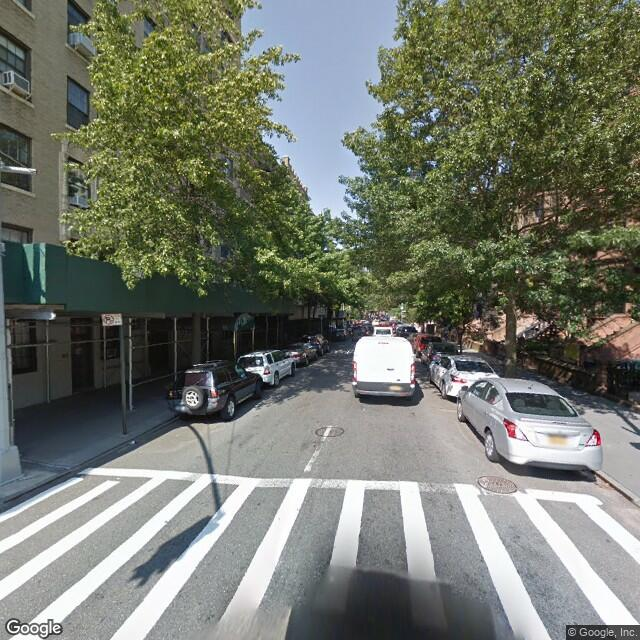litter: (126, 440, 135, 444), (617, 493, 622, 495)
